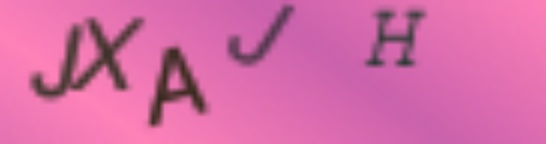A: (143, 42, 209, 129)
H: (364, 7, 429, 70)
J: (25, 21, 86, 104), (227, 2, 298, 68)
X: (73, 12, 151, 96)
